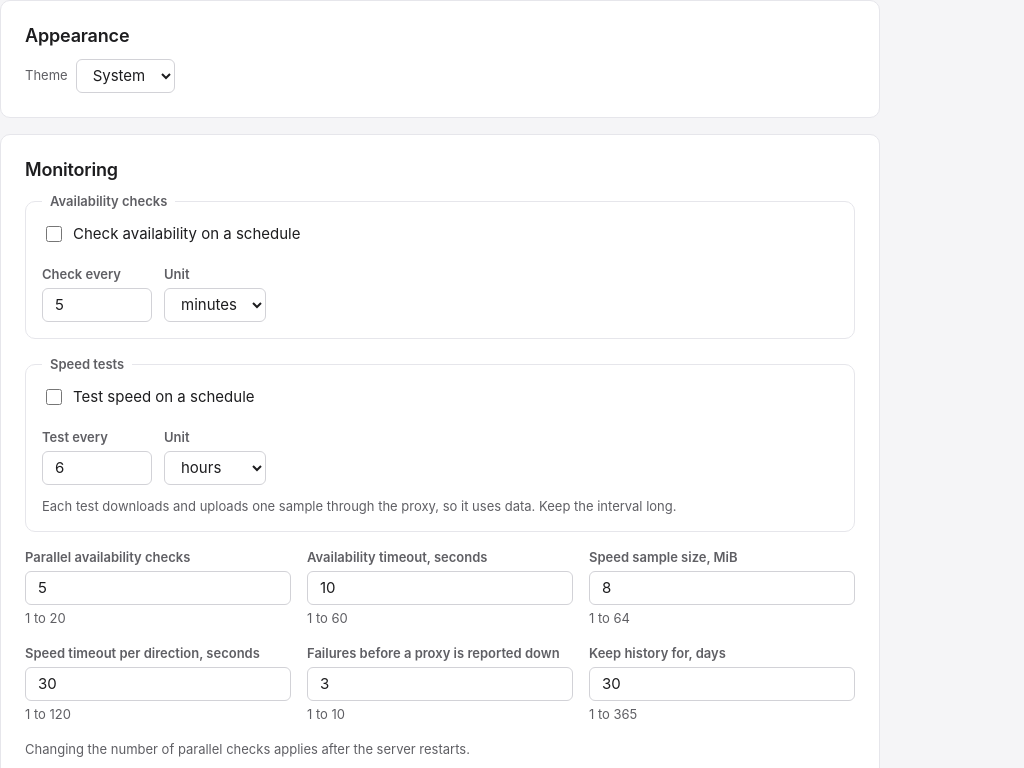
SettingsPage › saves monitoring settings, converting hours to minutes
Click the checkbox labelled "Check availability on a schedule": (54, 234) [46,226,62,242]
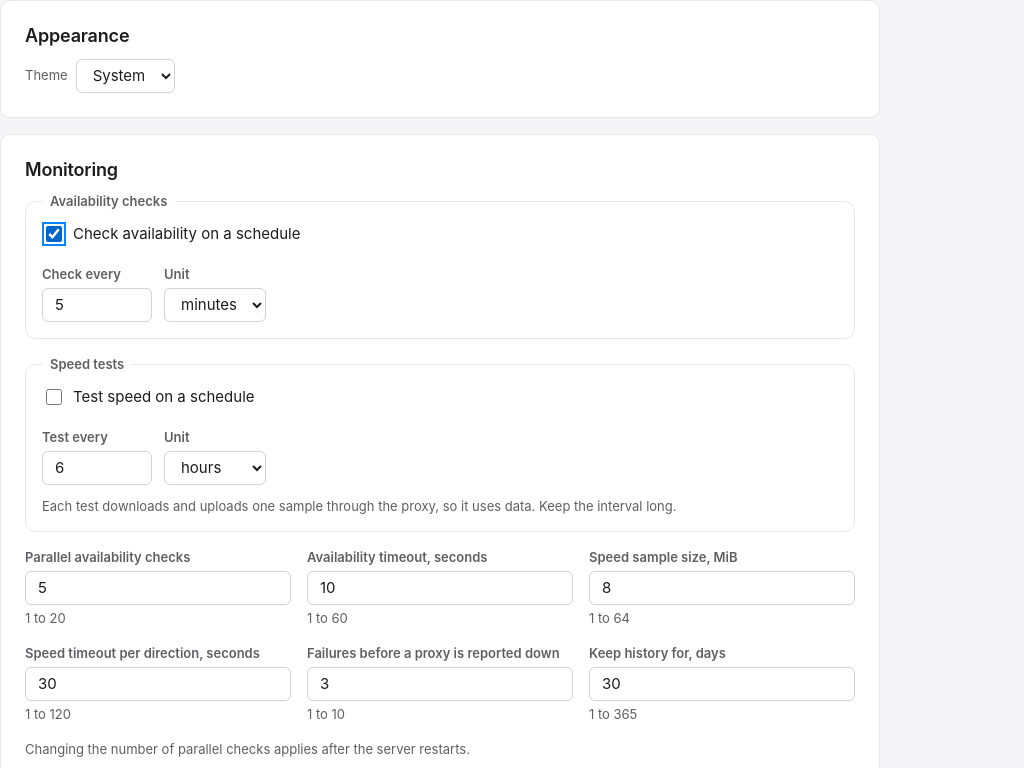
Replace the text in the field labelled "Check every" with "2": (97, 305) [42,288,152,322]
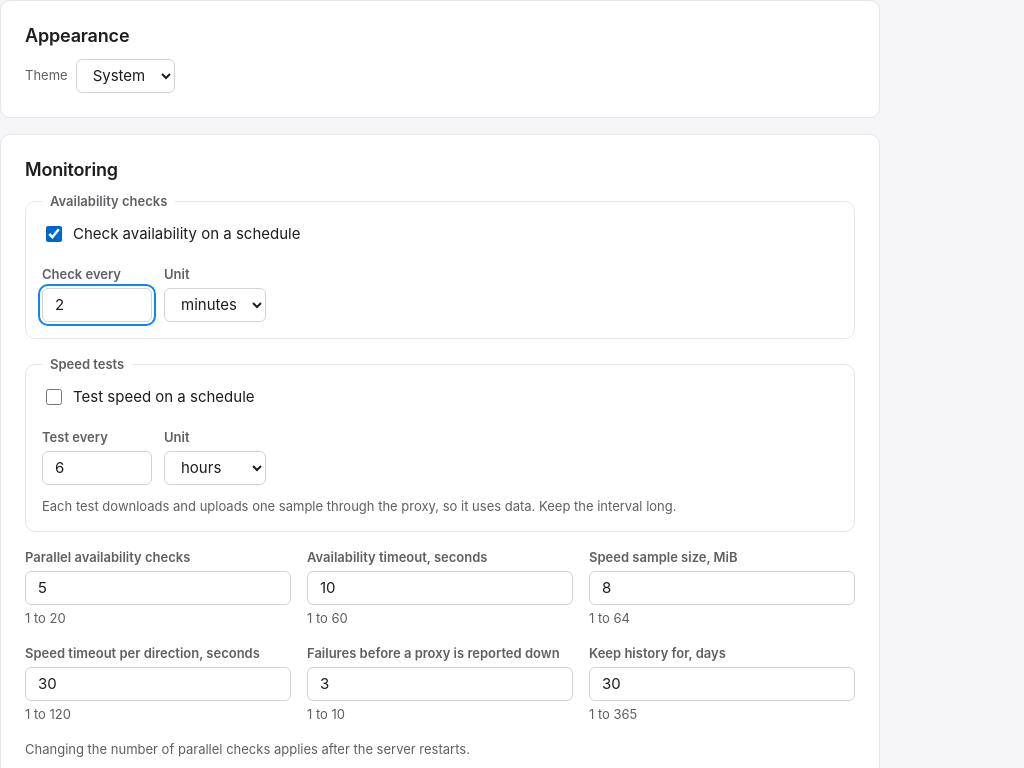
Select "hours" in the dropdown labelled "Unit" below "Check every": (215, 305) [164,288,266,322]
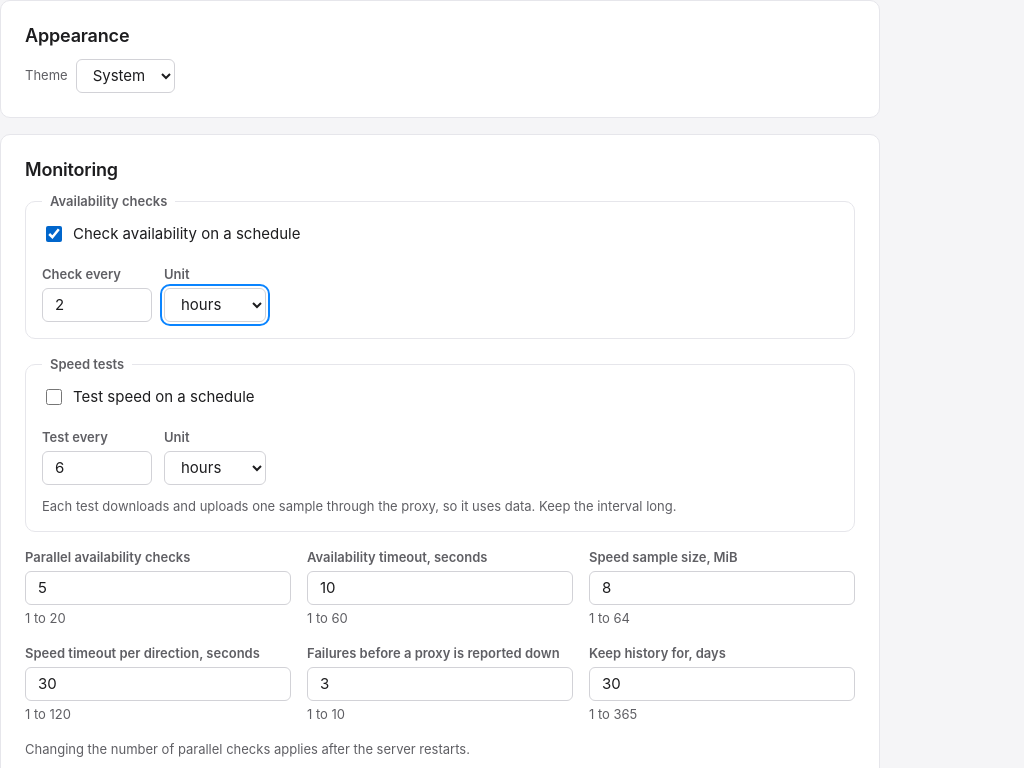
Replace the text in the field labelled "Failures before a proxy is reported down" with "4": (440, 684) [307,667,573,701]
(page scrolled)
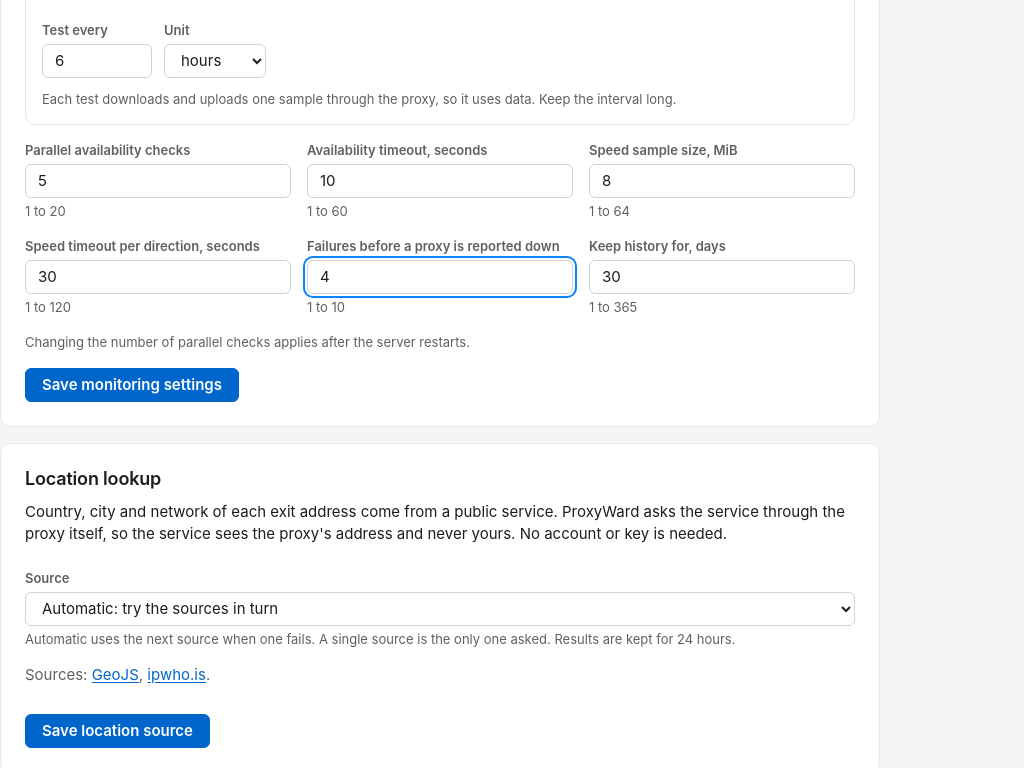
Click the button "Save monitoring settings": (132, 385) [25,368,239,402]
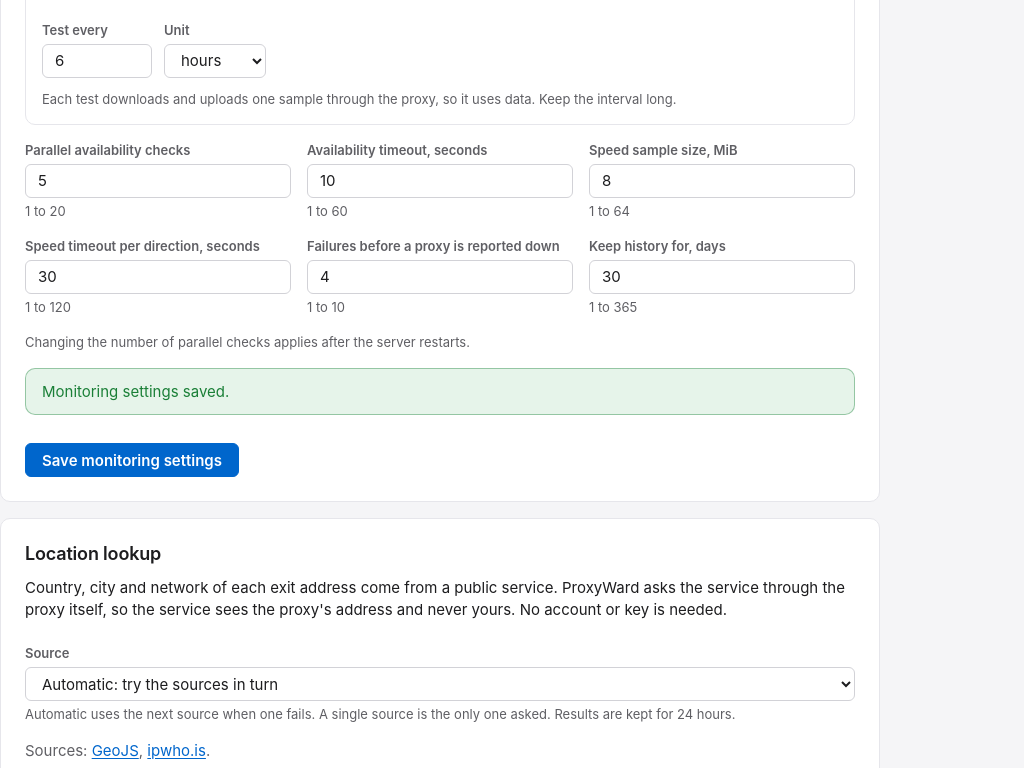
Check: the text "Monitoring settings saved." is shown, box [25,368,855,415]
